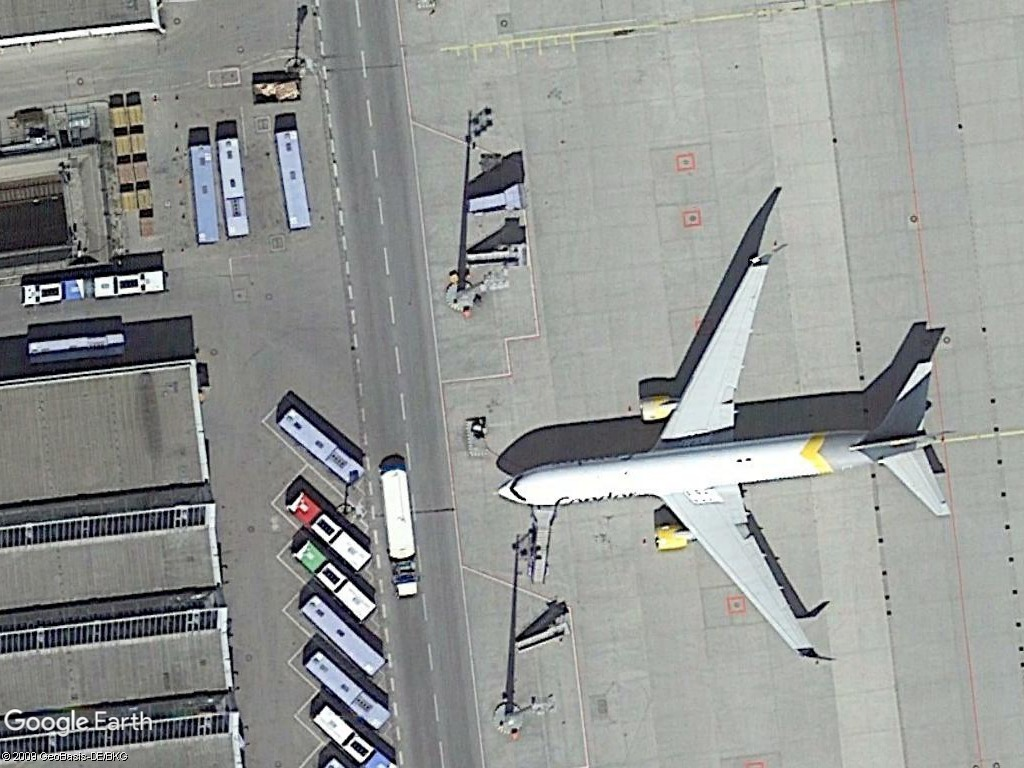airliner: (488, 250, 958, 667)
bus: (296, 645, 394, 736), (286, 535, 379, 624), (272, 403, 366, 490), (296, 592, 392, 677), (285, 488, 377, 573), (17, 266, 168, 310), (271, 125, 316, 232), (212, 131, 255, 241), (18, 329, 127, 370), (185, 139, 224, 247)
longvehicle: (377, 459, 418, 566)
stairtruck: (463, 180, 532, 224), (510, 613, 574, 657), (459, 238, 529, 275)
